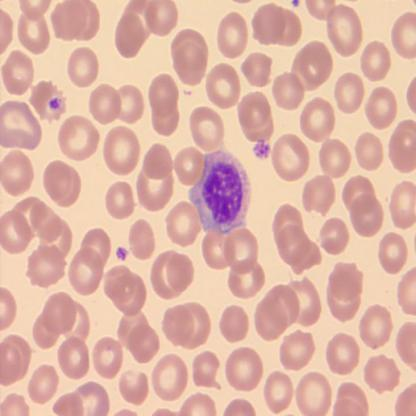Metamyelocyte: (186, 146, 253, 235)
